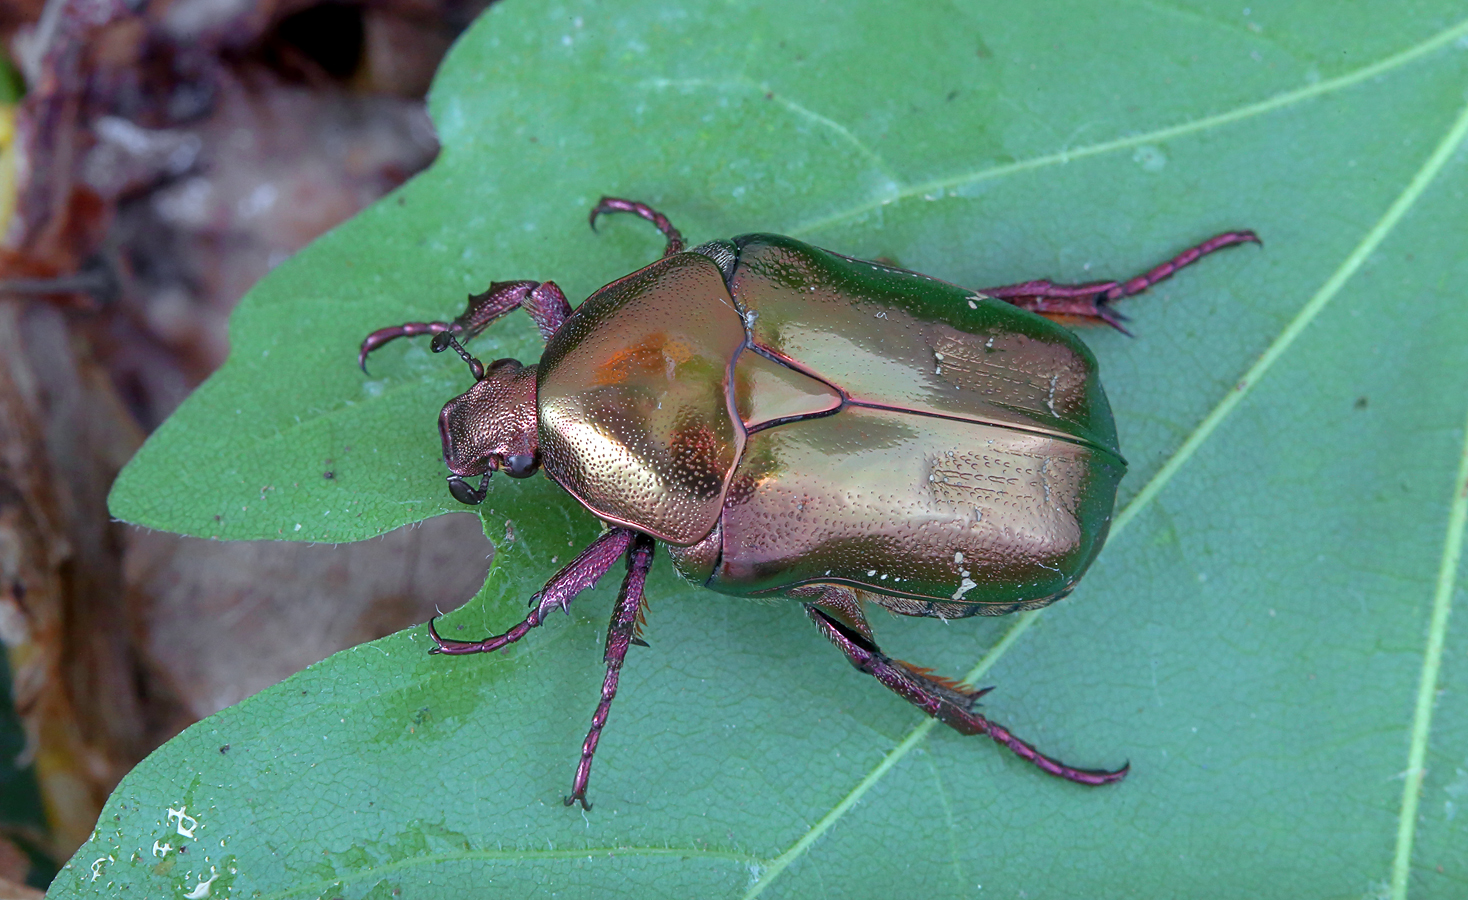Protaetia_fieberi: (348, 188, 1269, 803)
